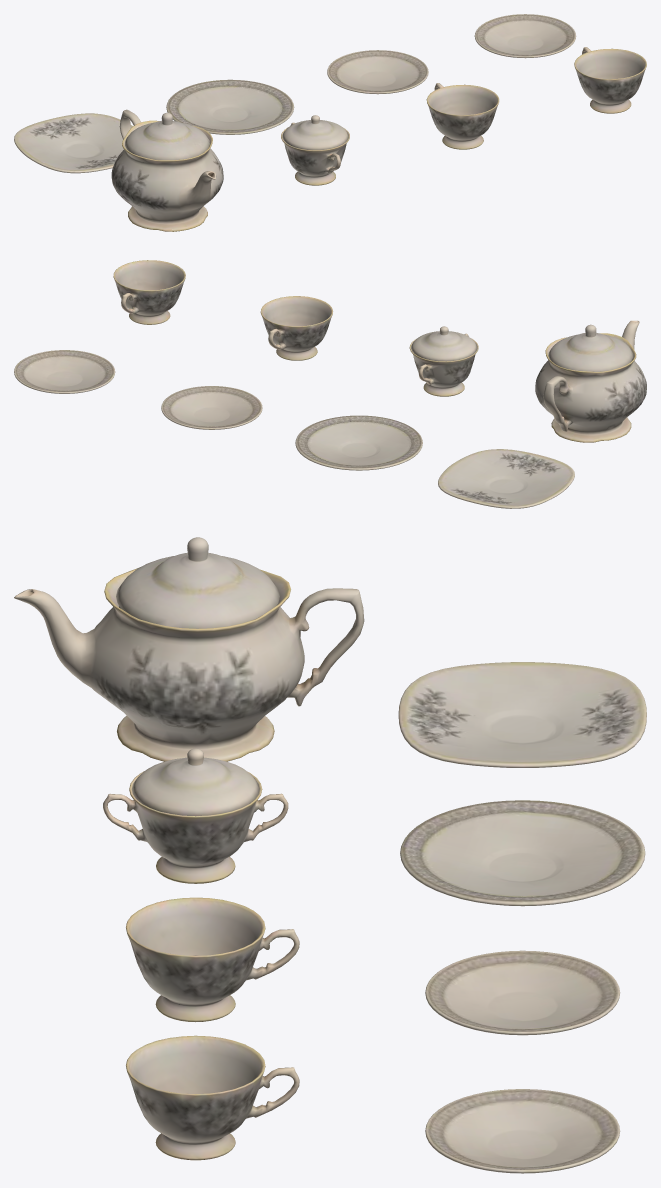
File: tea_set_01.glb
3 renders of one model, top to bottom at view 1: azimuth 30°, elevation 25°; view 2: azimuth 150°, elevation 25°; view 3: azimuth 270°, elevation 25°, orthographic. The views are drawn at different scales.
Visible parts, largest first — view 1: tea_set_01_teapot_01, tea_set_01_plate_large_circular_03, tea_set_01_plate_large_square_01, tea_set_01_cup_small_01, tea_set_01_cup_small_02, tea_set_01_saucer_circular_03, tea_set_01_saucer_circular_04, tea_set_01_teapot_01_lid, tea_set_01_sugar_cup_01, tea_set_01_sugar_cup_01_lid; view 2: tea_set_01_teapot_01, tea_set_01_plate_large_square_01, tea_set_01_plate_large_circular_03, tea_set_01_cup_small_01, tea_set_01_cup_small_02, tea_set_01_saucer_circular_04, tea_set_01_saucer_circular_03, tea_set_01_teapot_01_lid, tea_set_01_sugar_cup_01, tea_set_01_sugar_cup_01_lid; view 3: tea_set_01_teapot_01, tea_set_01_plate_large_square_01, tea_set_01_plate_large_circular_03, tea_set_01_cup_small_01, tea_set_01_cup_small_02, tea_set_01_saucer_circular_03, tea_set_01_saucer_circular_04, tea_set_01_teapot_01_lid, tea_set_01_sugar_cup_01, tea_set_01_sugar_cup_01_lid.
Part boxes in pixels (<box>): tea_set_01_teapot_01: <box>111,109,223,231</box>; tea_set_01_plate_large_circular_03: <box>166,79,294,134</box>; tea_set_01_plate_large_square_01: <box>14,113,133,173</box>; tea_set_01_cup_small_01: <box>426,83,499,149</box>; tea_set_01_cup_small_02: <box>574,47,646,113</box>; tea_set_01_saucer_circular_03: <box>474,14,576,58</box>; tea_set_01_saucer_circular_04: <box>327,50,428,94</box>; tea_set_01_teapot_01_lid: <box>125,112,209,160</box>; tea_set_01_sugar_cup_01: <box>281,122,349,185</box>; tea_set_01_sugar_cup_01_lid: <box>282,115,348,150</box>; tea_set_01_teapot_01: <box>535,320,646,442</box>; tea_set_01_plate_large_square_01: <box>438,449,574,508</box>; tea_set_01_plate_large_circular_03: <box>295,415,422,470</box>; tea_set_01_cup_small_01: <box>260,296,332,360</box>; tea_set_01_cup_small_02: <box>113,260,185,324</box>; tea_set_01_saucer_circular_04: <box>161,386,262,429</box>; tea_set_01_saucer_circular_03: <box>14,350,115,393</box>; tea_set_01_teapot_01_lid: <box>548,324,633,371</box>; tea_set_01_sugar_cup_01: <box>409,333,478,396</box>; tea_set_01_sugar_cup_01_lid: <box>411,326,477,361</box>; tea_set_01_teapot_01: <box>14,568,364,761</box>; tea_set_01_plate_large_square_01: <box>398,662,646,767</box>; tea_set_01_plate_large_circular_03: <box>400,800,645,906</box>; tea_set_01_cup_small_01: <box>126,897,299,1022</box>; tea_set_01_cup_small_02: <box>126,1035,299,1160</box>; tea_set_01_saucer_circular_03: <box>425,1089,620,1173</box>; tea_set_01_saucer_circular_04: <box>425,950,620,1035</box>; tea_set_01_teapot_01_lid: <box>116,537,279,628</box>; tea_set_01_sugar_cup_01: <box>103,771,288,883</box>; tea_set_01_sugar_cup_01_lid: <box>131,748,259,816</box>.
Size of the model in its own units: 0.9185 by 0.165 by 0.4839.
Materials: 1 (1 with a texture image).
